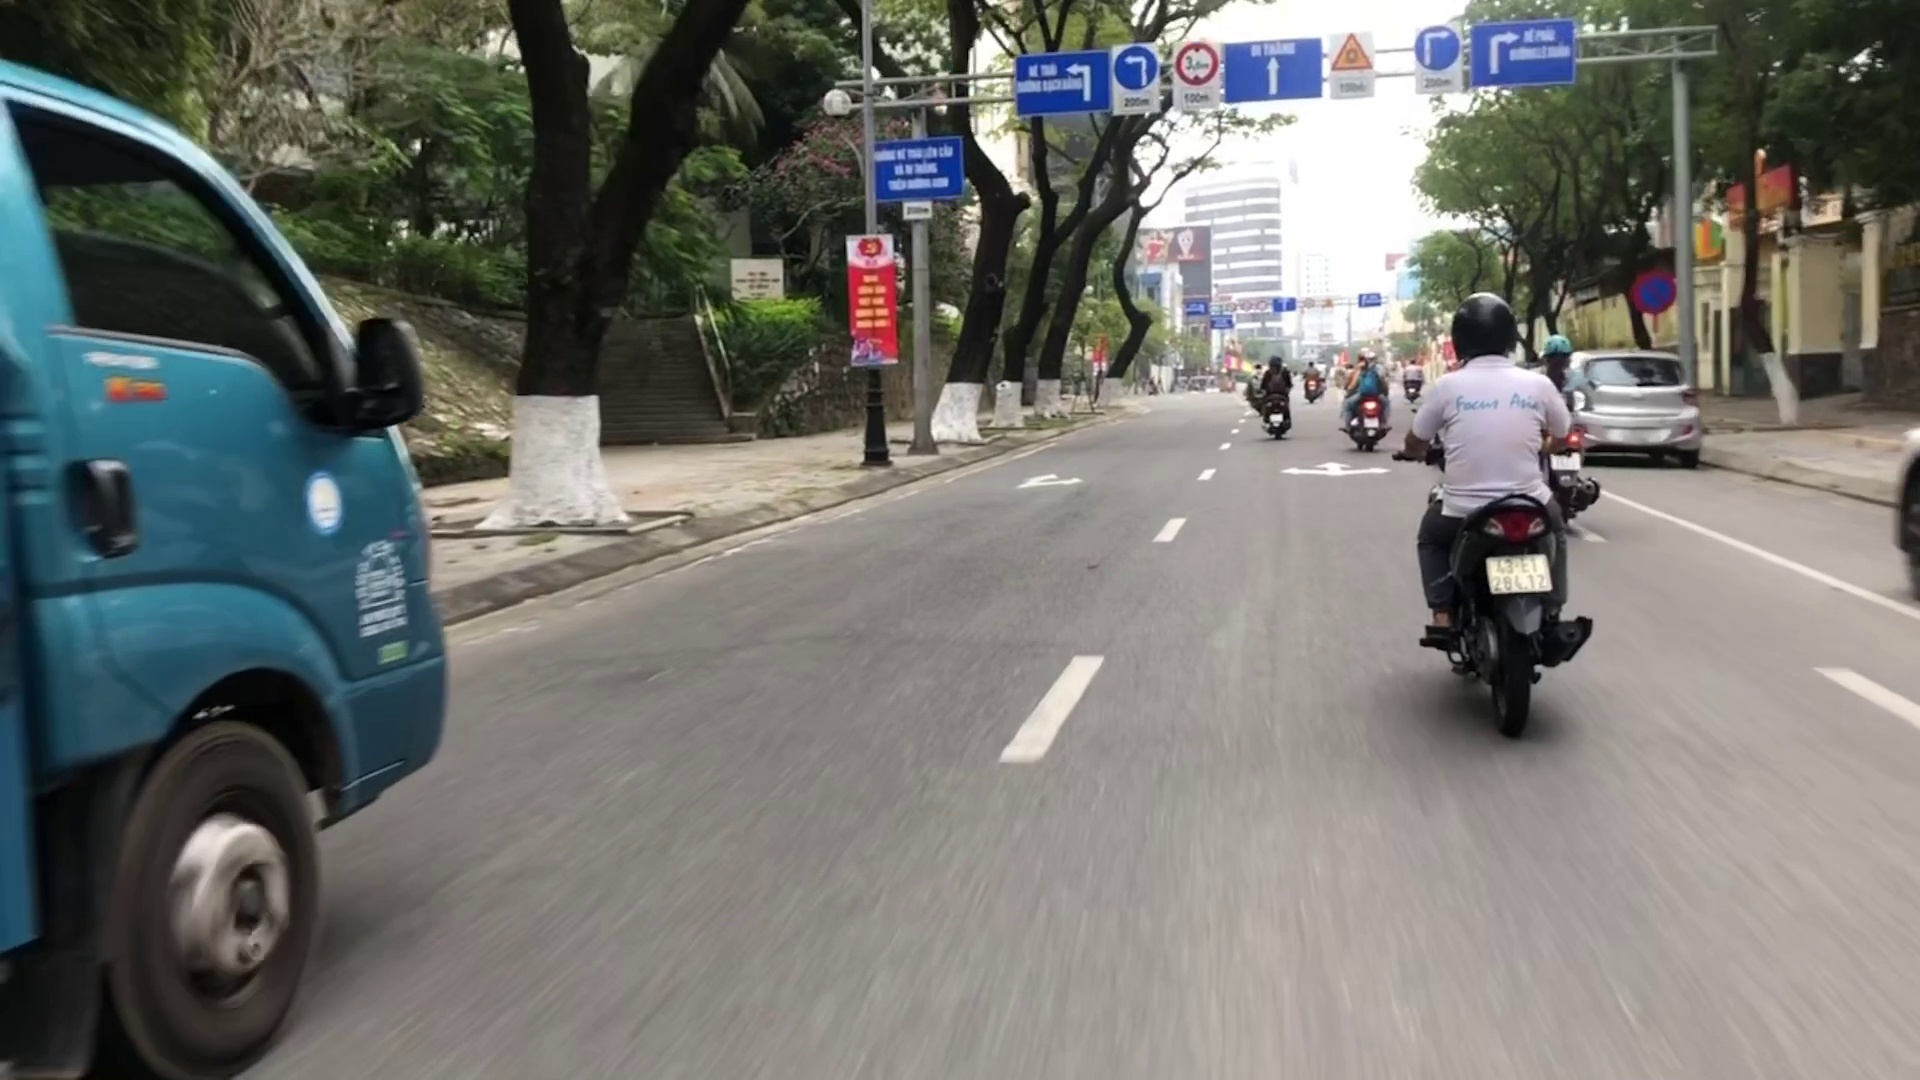Cam do xe: (1629, 268, 1677, 320)
